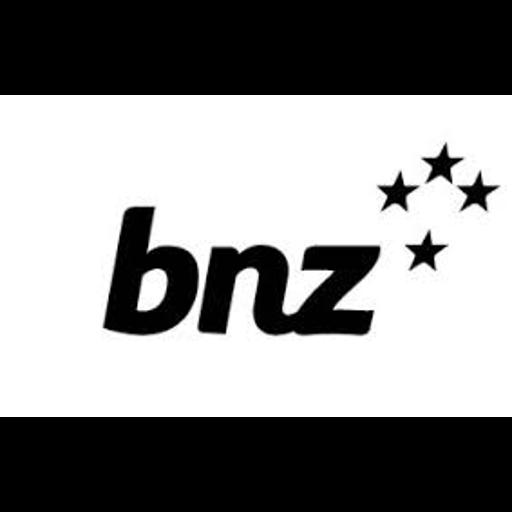Bank of New Zealand: (0, 95, 512, 417)
